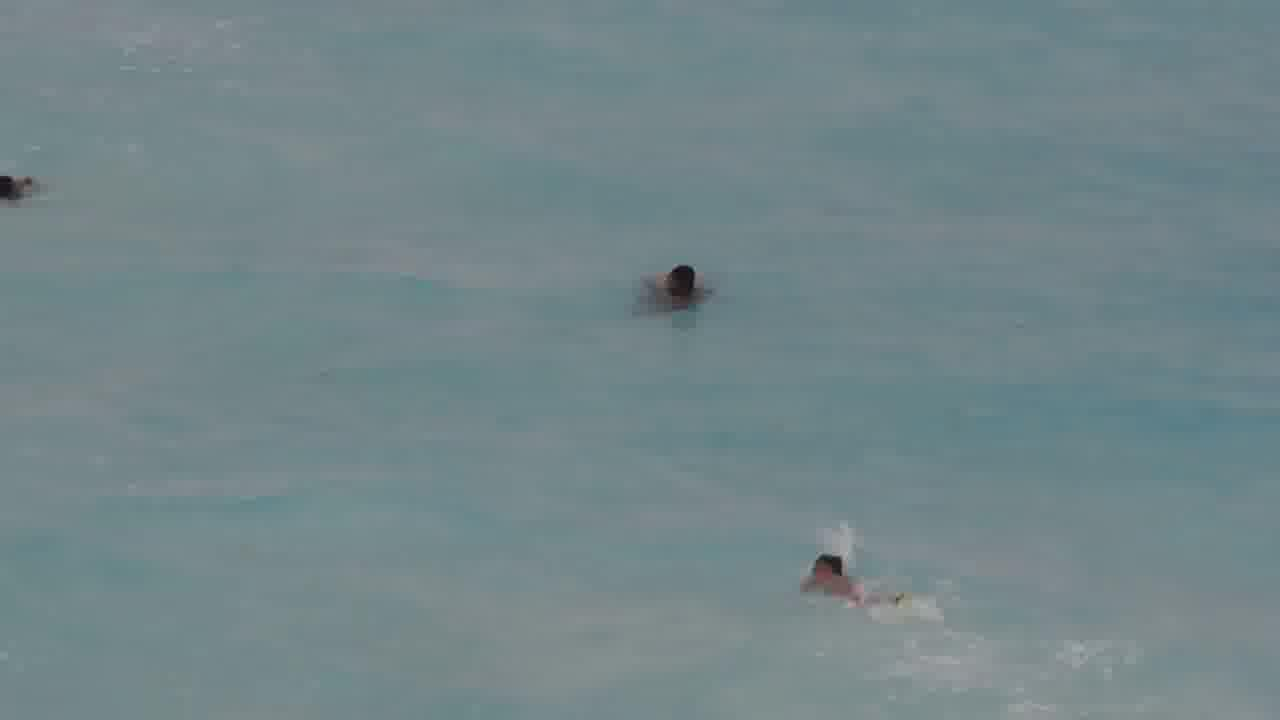swimmer: (623, 247, 720, 325), (801, 539, 877, 607), (5, 154, 48, 219)
